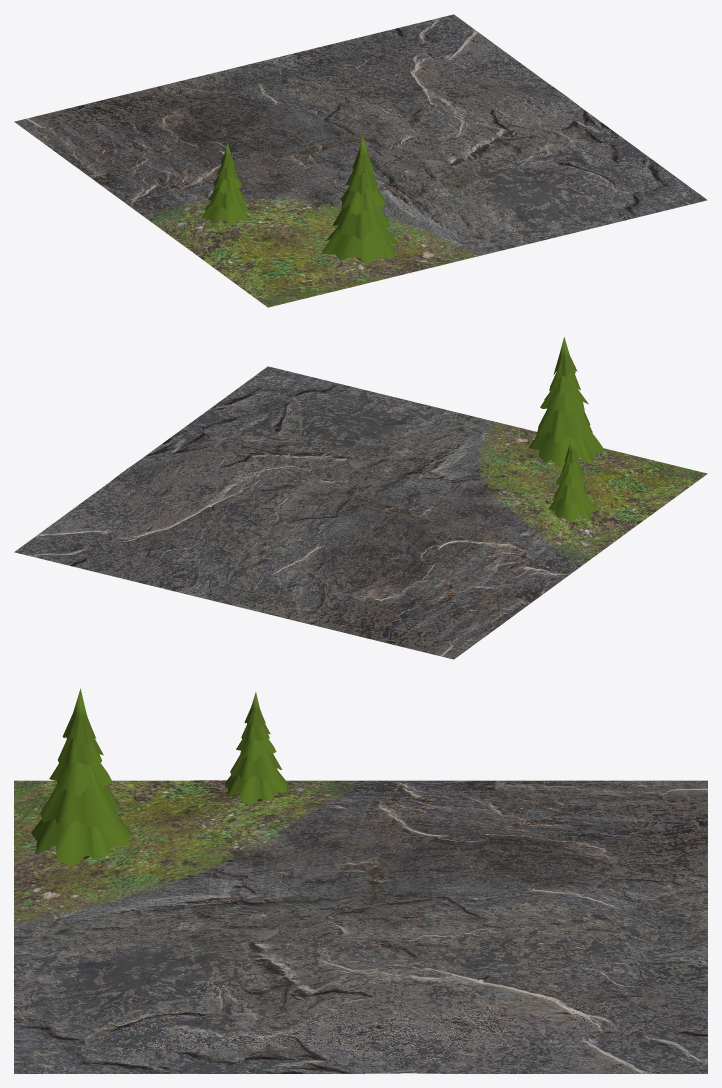
File: MMFM.fbx
3 views of the same model, one above another, from view 1: azimuth 30°, elevation 25°; view 2: azimuth 150°, elevation 25°; view 3: azimuth 270°, elevation 25° (orthographic). The views are drawn at different scales.
Parts seen in each view (by area): view 1: Plane, Resource_PineTree_Group.031, Resource_PineTree_Group.032, Resource_PineTree_Group.033, Resource_PineTree_Group.005, Resource_PineTree_Group.004, Resource_PineTree_Group.034, Resource_PineTree_Group.035; view 2: Plane, Resource_PineTree_Group.031, Resource_PineTree_Group.032, Resource_PineTree_Group.033, Resource_PineTree_Group.005, Resource_PineTree_Group.004; view 3: Plane, Resource_PineTree_Group.031, Resource_PineTree_Group.032, Resource_PineTree_Group.033, Resource_PineTree_Group.005, Resource_PineTree_Group.004, Resource_PineTree_Group.034, Resource_PineTree_Group.035, Resource_PineTree_Group.003.
Boxes of the visible parts, x1=… form: Plane: x1=14, y1=14, x2=707, y2=307; Resource_PineTree_Group.031: x1=322, y1=226, x2=399, y2=263; Resource_PineTree_Group.032: x1=332, y1=204, x2=389, y2=240; Resource_PineTree_Group.033: x1=340, y1=187, x2=385, y2=214; Resource_PineTree_Group.005: x1=201, y1=201, x2=250, y2=224; Resource_PineTree_Group.004: x1=208, y1=187, x2=244, y2=209; Resource_PineTree_Group.034: x1=345, y1=171, x2=377, y2=194; Resource_PineTree_Group.035: x1=352, y1=135, x2=374, y2=175; Plane: x1=14, y1=366, x2=707, y2=659; Resource_PineTree_Group.031: x1=529, y1=431, x2=604, y2=467; Resource_PineTree_Group.032: x1=536, y1=408, x2=592, y2=441; Resource_PineTree_Group.033: x1=540, y1=388, x2=588, y2=415; Resource_PineTree_Group.005: x1=548, y1=498, x2=596, y2=521; Resource_PineTree_Group.004: x1=553, y1=484, x2=588, y2=505; Plane: x1=14, y1=780, x2=707, y2=1073; Resource_PineTree_Group.031: x1=31, y1=813, x2=131, y2=866; Resource_PineTree_Group.032: x1=40, y1=785, x2=121, y2=827; Resource_PineTree_Group.033: x1=49, y1=761, x2=112, y2=796; Resource_PineTree_Group.005: x1=224, y1=771, x2=288, y2=805; Resource_PineTree_Group.004: x1=230, y1=753, x2=281, y2=780; Resource_PineTree_Group.034: x1=58, y1=734, x2=103, y2=765; Resource_PineTree_Group.035: x1=62, y1=688, x2=96, y2=745; Resource_PineTree_Group.003: x1=236, y1=738, x2=276, y2=760.
Size of the model in its own units: 500 by 141 by 500.
